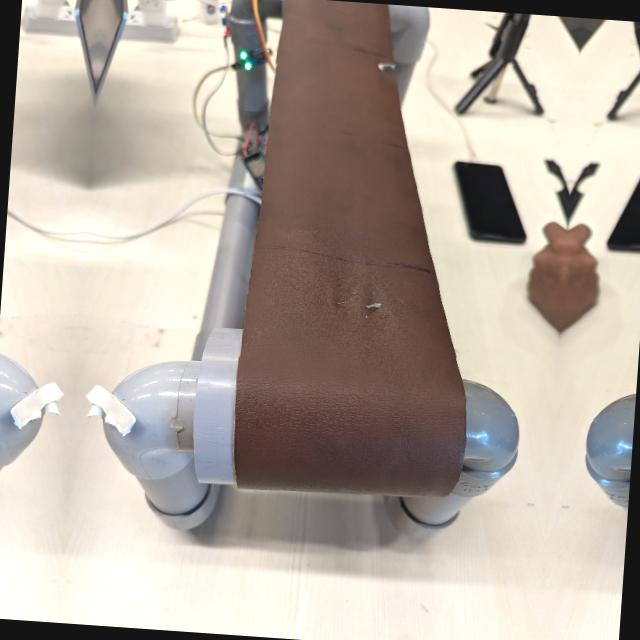belt_crack: (313, 264, 430, 343)
edge_damage: (367, 51, 402, 84)
